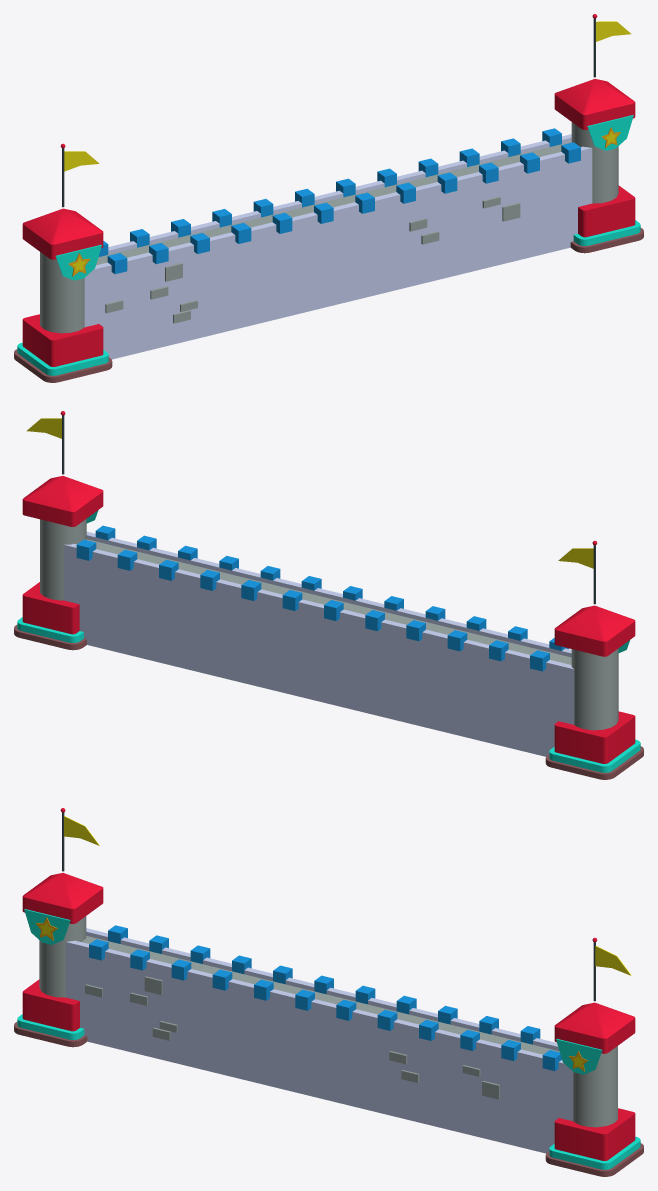
Rendered from Wall2.fbx.
3 renders of one model, top to bottom at view 1: azimuth 30°, elevation 25°; view 2: azimuth 150°, elevation 25°; view 3: azimuth 330°, elevation 25°, orthographic.
Visible parts, largest first — view 1: Cube.032; view 2: Cube.032; view 3: Cube.032.
Boxes of the visible parts, <box> form: Cube.032: <box>14,14,643,382</box>; Cube.032: <box>14,411,643,779</box>; Cube.032: <box>14,808,643,1176</box>.
Bounding box in the file's own units: 602 × 209 × 67.55.
1 material, 1 textured.
